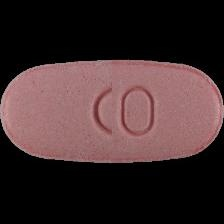16714-692: (0, 0, 224, 224)
